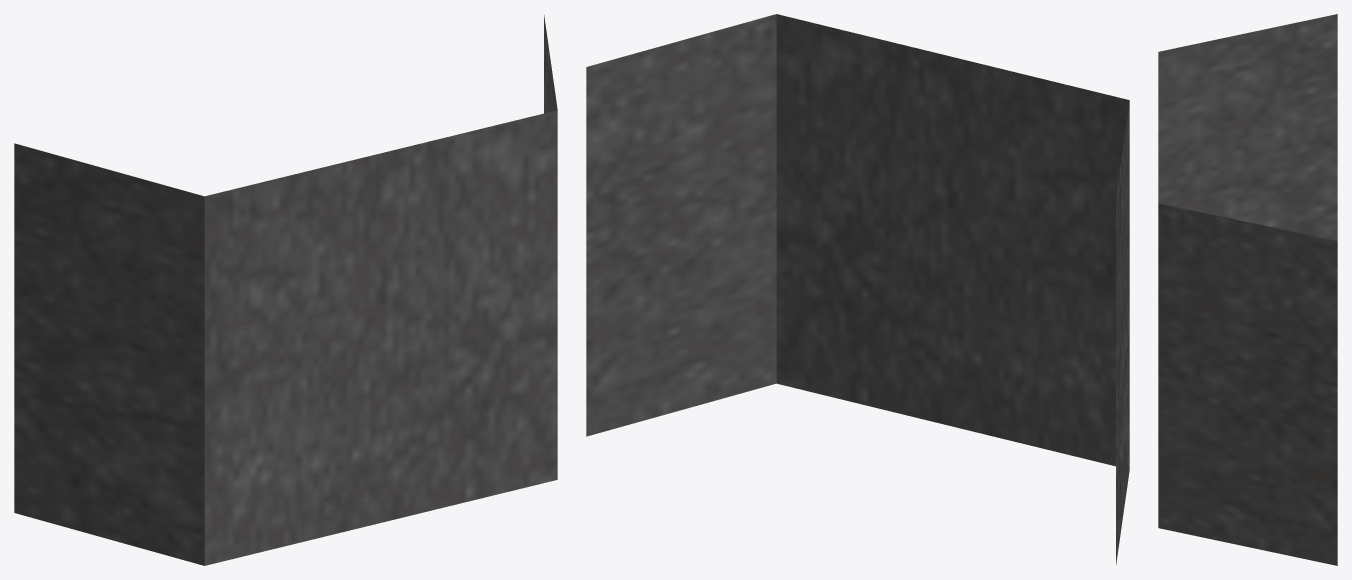
Rendered from CONCRT01_1_normfixed.fbx.
3 views of the same model, side by side, from view 1: azimuth 30°, elevation 25°; view 2: azimuth 150°, elevation 25°; view 3: azimuth 270°, elevation 25° (orthographic). The views are drawn at different scales.
Visible parts, largest first — view 1: CONCRT01_1; view 2: CONCRT01_1; view 3: CONCRT01_1.
Part boxes in pixels (left/top/right/bottom): CONCRT01_1: left=14, top=15, right=557, bottom=565; CONCRT01_1: left=586, top=14, right=1129, bottom=564; CONCRT01_1: left=1158, top=14, right=1337, bottom=565.
Size of the model in its own units: 192 by 128 by 64.
1 material, 1 textured.
